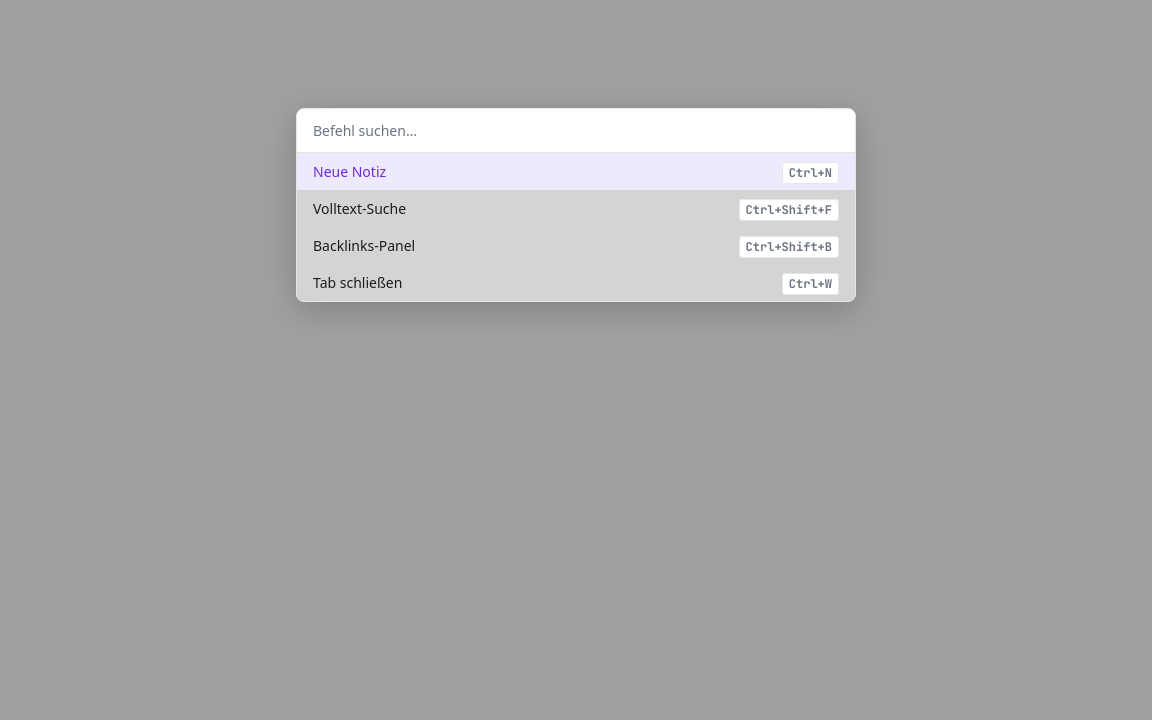
CommandPalette (#13) › filters commands with fuzzy matching on the query
Type "Notiz" into the field with test id "command-palette-input".
click(576, 131); type("Notiz")  # box [297, 109, 855, 153]
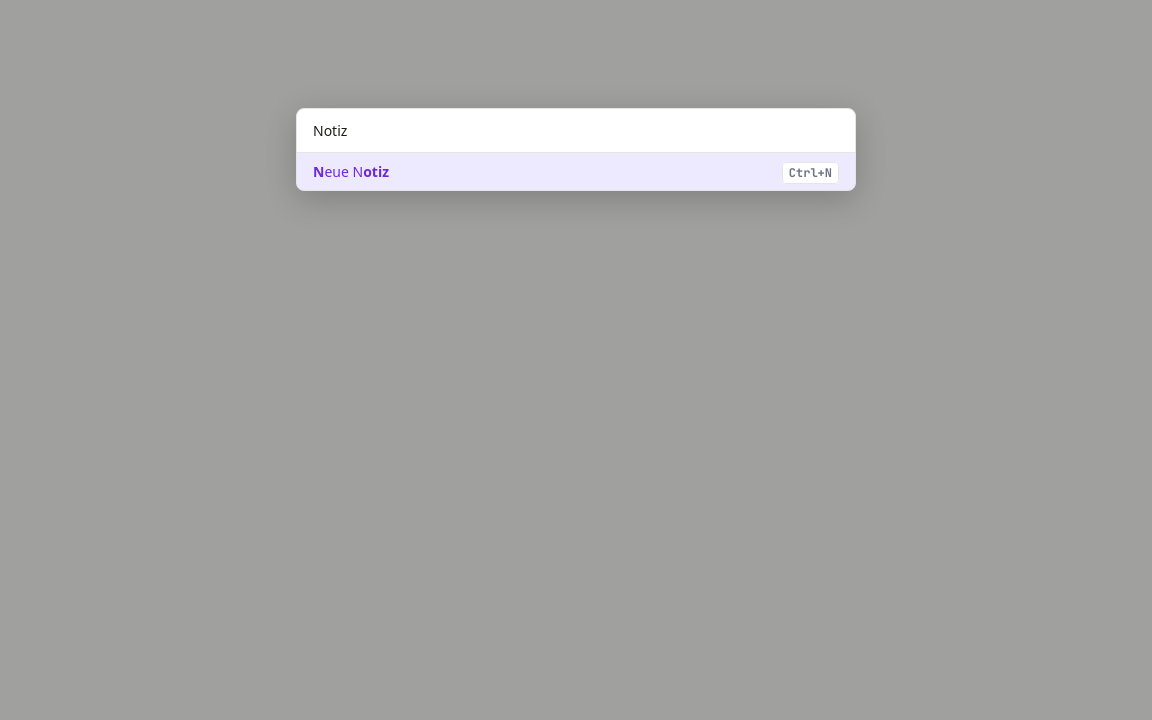
Now the number of options with test id "command-palette-row" is 1, box [297, 153, 855, 190]
